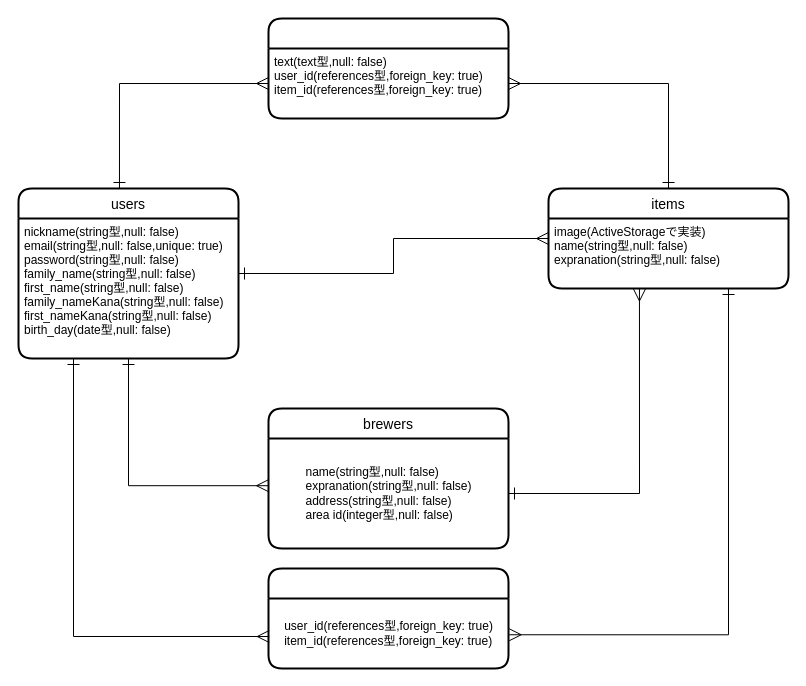
Image size: 806x686. Some labels were removed from this diagram. The box of each missing label's shape, as (x1, y1, x2, y2) in pixels:
comments: (267, 17, 509, 119)
favorites: (267, 567, 509, 669)
